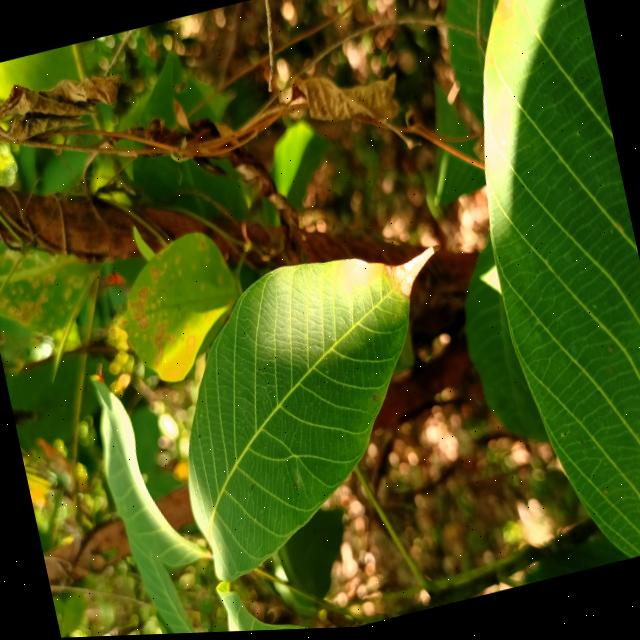Colletotrichum: (372, 396, 378, 404), (292, 484, 297, 492)
Leaf-Blight: (380, 246, 448, 304)
